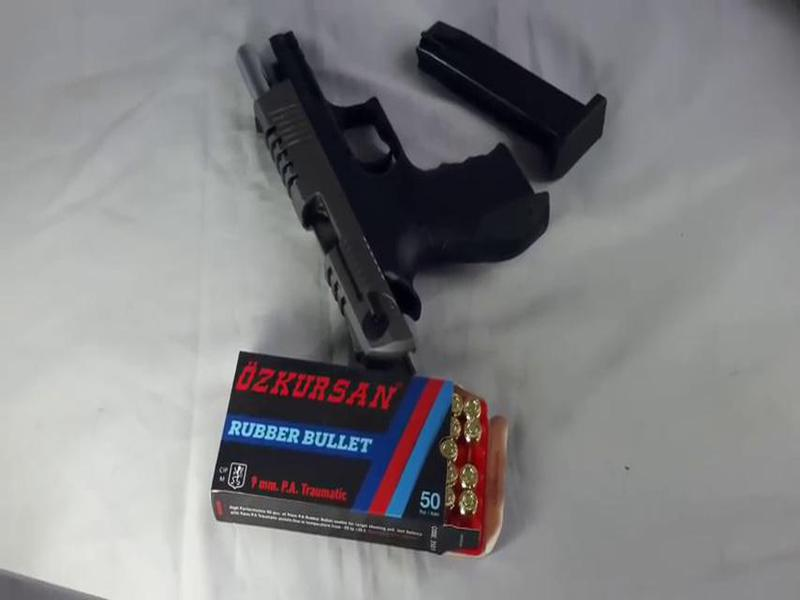Pistola: (229, 27, 584, 379)
